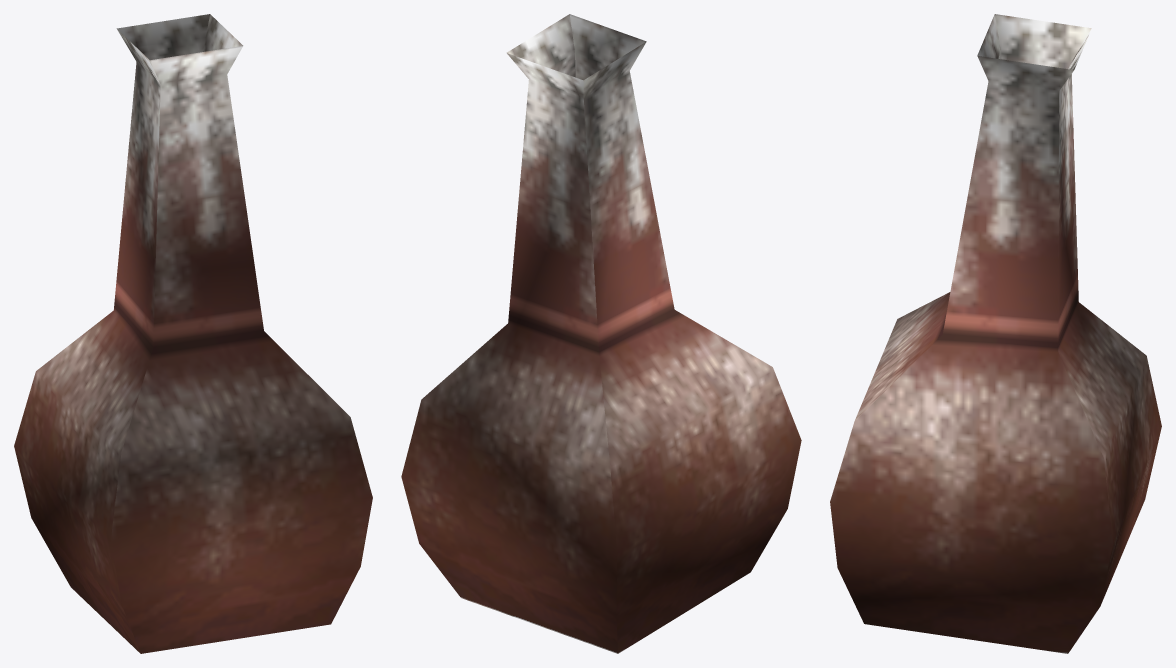
Rendered from bottlesmoke.obj.
3 renders of one model, left to right at view 1: azimuth 30°, elevation 25°; view 2: azimuth 150°, elevation 25°; view 3: azimuth 270°, elevation 25°, orthographic.
Parts seen in each view (by area): view 1: BOTTLESMOKE0; view 2: BOTTLESMOKE0; view 3: BOTTLESMOKE0.
Part boxes in pixels (x1,y1,x2,y2): BOTTLESMOKE0: (14,14,372,653); BOTTLESMOKE0: (401,14,801,653); BOTTLESMOKE0: (830,14,1161,653).
Size of the model in its own units: 0.4518 by 0.8628 by 0.4573.
